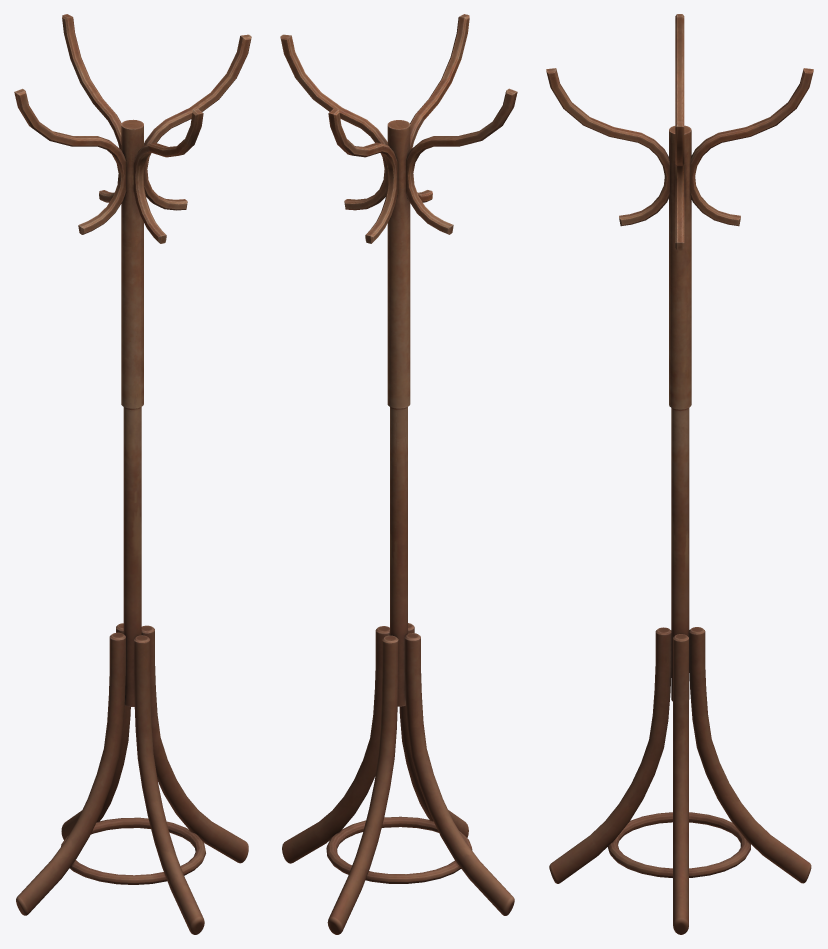
Rendered from SM_Hanger.fbx.
3 renders of one model, left to right at view 1: azimuth 30°, elevation 25°; view 2: azimuth 150°, elevation 25°; view 3: azimuth 270°, elevation 25°, orthographic.
Visible parts, largest first — view 1: SM_Hanger_LOD0; view 2: SM_Hanger_LOD0; view 3: SM_Hanger_LOD0.
Boxes of the visible parts, bbox=[...] form: SM_Hanger_LOD0: bbox=[14, 14, 251, 934]; SM_Hanger_LOD0: bbox=[280, 14, 517, 934]; SM_Hanger_LOD0: bbox=[546, 14, 813, 934].
Bounding box in the file's own units: 48.3 × 48.37 × 162.
1 material, 1 textured.
